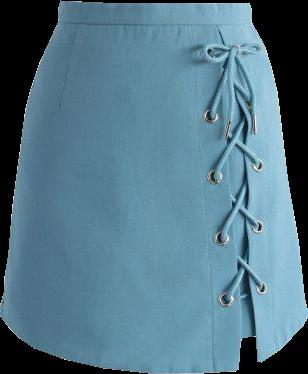Hemline: (0, 313, 307, 373)
Waistline: (54, 19, 253, 28), (58, 0, 249, 5)
